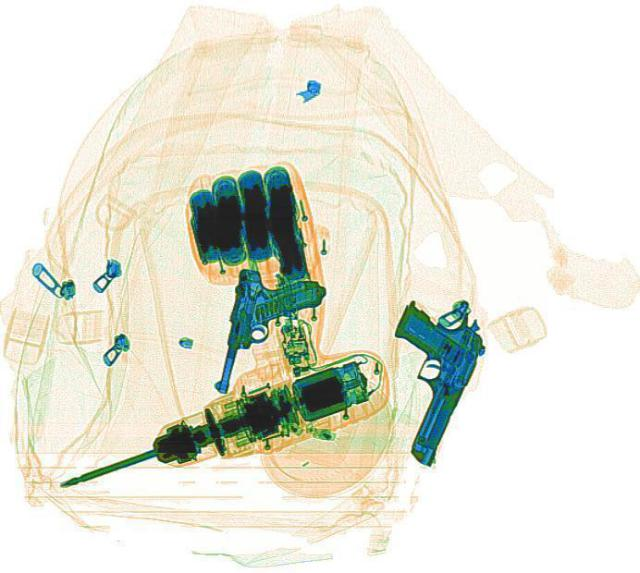Gun: (346, 289, 498, 468), (210, 264, 328, 405)
